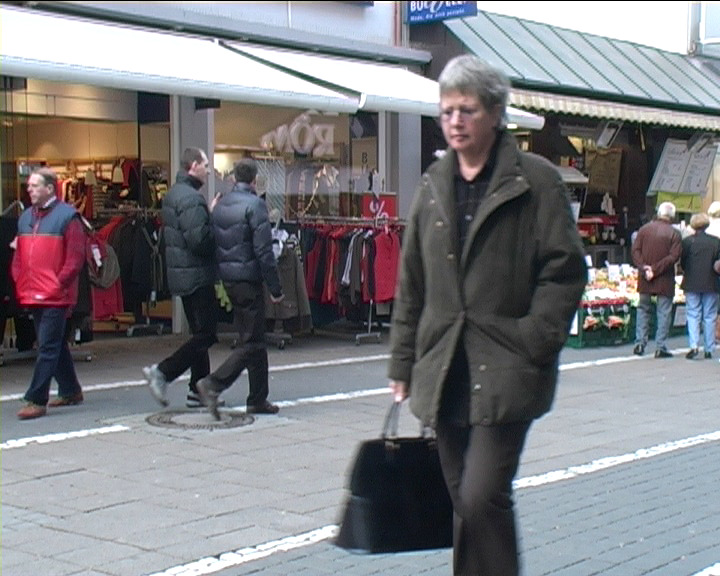undeflect: (411, 55, 574, 208), (15, 159, 86, 238)
